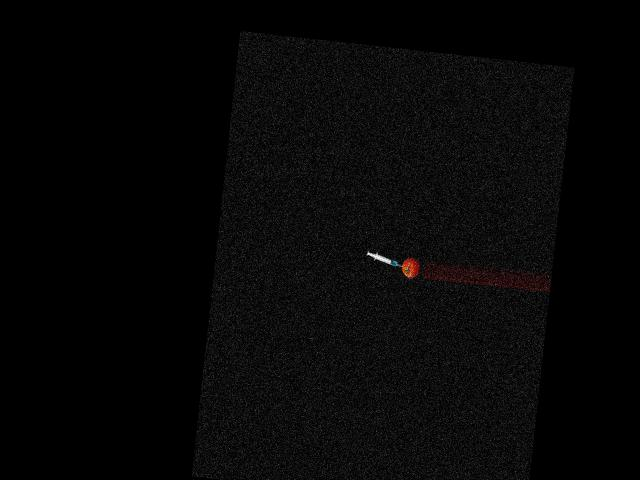tomato: (401, 257, 420, 278)
